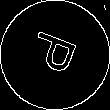P_E: (25, 29, 85, 81)
